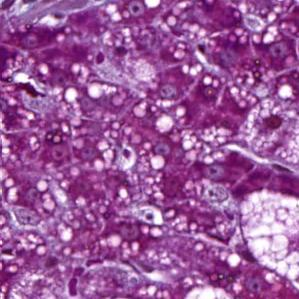ballooning: (233, 189, 299, 296)
